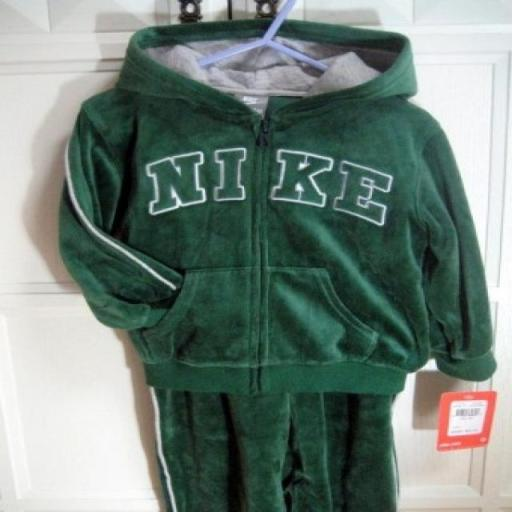Nike: (144, 141, 404, 226)
